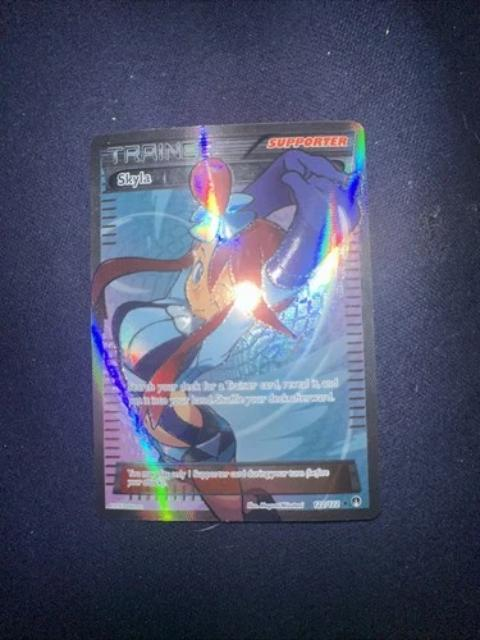Card: (85, 115, 389, 526)
Name: (106, 167, 160, 192)
